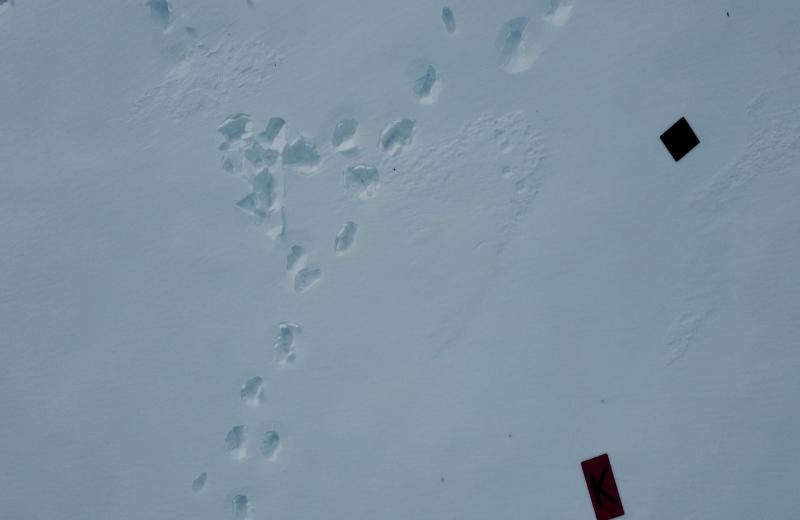Rectangle: (578, 451, 629, 520)
Square: (659, 115, 700, 161)
